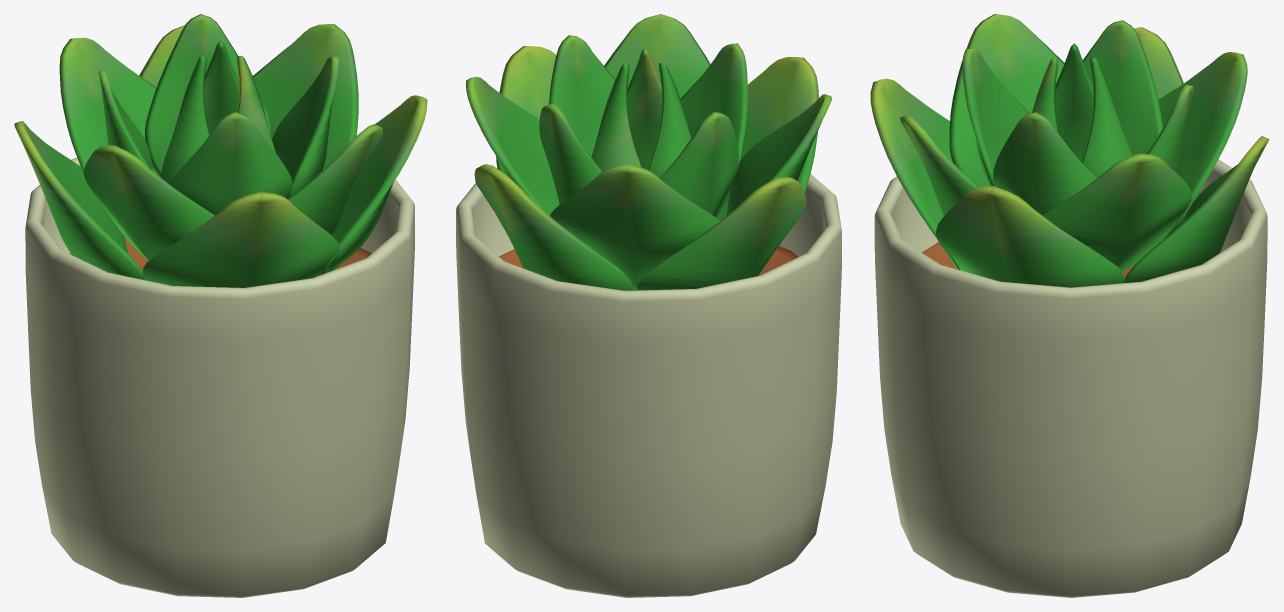
The model's file is Maceta2.glb.
3 renders of one model, left to right at view 1: azimuth 30°, elevation 25°; view 2: azimuth 150°, elevation 25°; view 3: azimuth 270°, elevation 25°, orthographic.
Visible parts, largest first — view 1: Cylinder, leaf01, leaf01.002, leaf01.003, leaf01.004; view 2: Cylinder, leaf01.002, leaf01, leaf01.003, leaf01.004; view 3: Cylinder, leaf01.002, leaf01, leaf01.003, leaf01.004.
Boxes of the visible parts, box(x1,y1,x2,y2) form: Cylinder: box(25, 157, 414, 597); leaf01: box(14, 25, 427, 287); leaf01.002: box(59, 24, 382, 260); leaf01.003: box(98, 14, 338, 215); leaf01.004: box(160, 40, 275, 183); Cylinder: box(456, 168, 841, 597); leaf01.002: box(466, 14, 831, 289); leaf01: box(474, 46, 818, 290); leaf01.003: box(539, 35, 747, 219); leaf01.004: box(591, 48, 691, 178); Cylinder: box(874, 159, 1267, 597); leaf01.002: box(900, 14, 1247, 271); leaf01: box(870, 27, 1269, 287); leaf01.003: box(962, 20, 1193, 215); leaf01.004: box(1032, 43, 1132, 178).
Size of the model in its own units: 1.01 by 1.34 by 1.02.
Materials: 3 (1 with a texture image).
